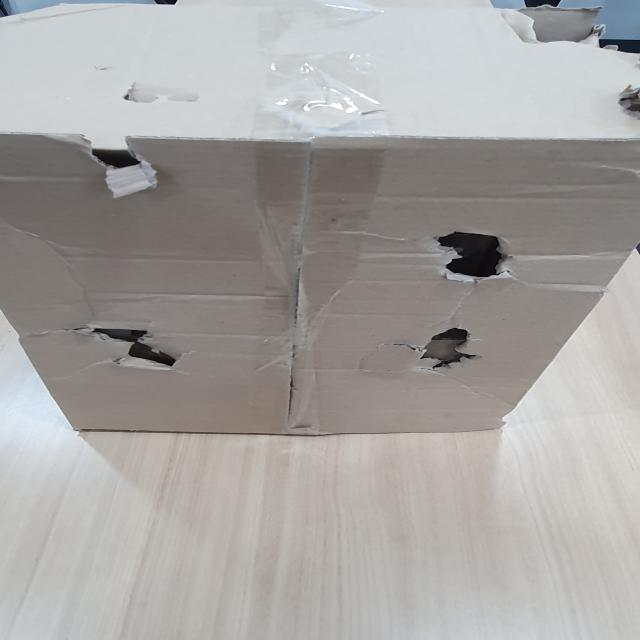hole: (429, 225, 529, 283), (78, 318, 179, 375), (418, 324, 489, 374), (78, 143, 160, 181)
